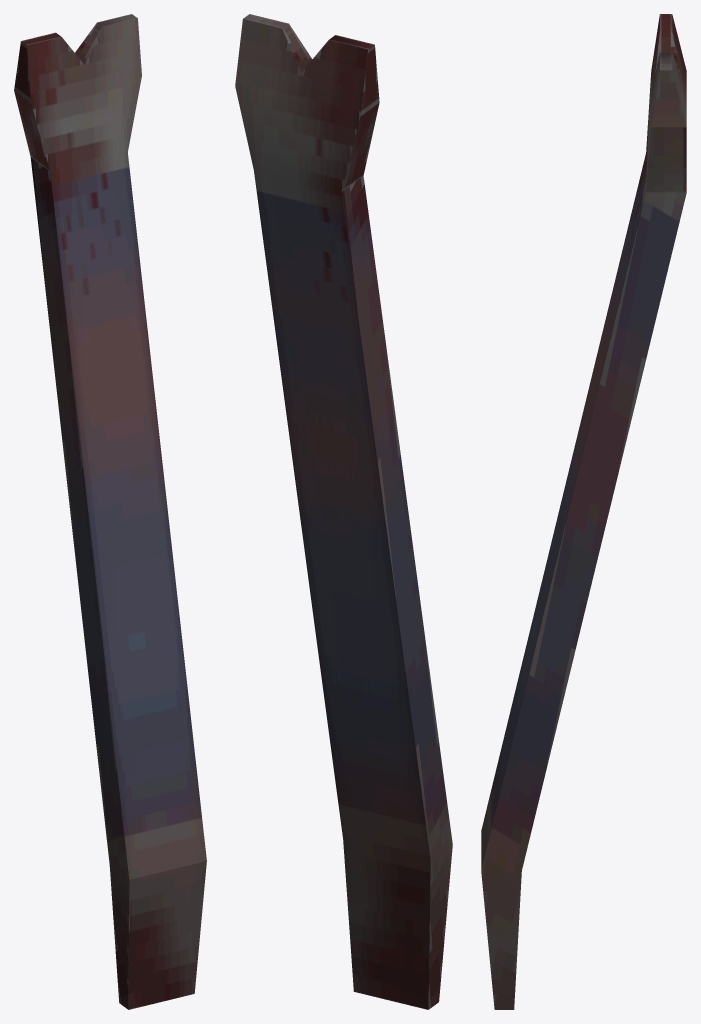
File: Crowbar.fbx
3 renders of one model, left to right at view 1: azimuth 30°, elevation 25°; view 2: azimuth 150°, elevation 25°; view 3: azimuth 270°, elevation 25°, orthographic. The views are drawn at different scales.
Parts seen in each view (by area): view 1: Crowbar; view 2: Crowbar; view 3: Crowbar.
Part boxes in pixels (x1,y1,x2,y2): Crowbar: [14, 14, 206, 1009]; Crowbar: [235, 14, 452, 1009]; Crowbar: [481, 14, 686, 1009].
Size of the model in its own units: 14.29 by 112 by 21.99.
